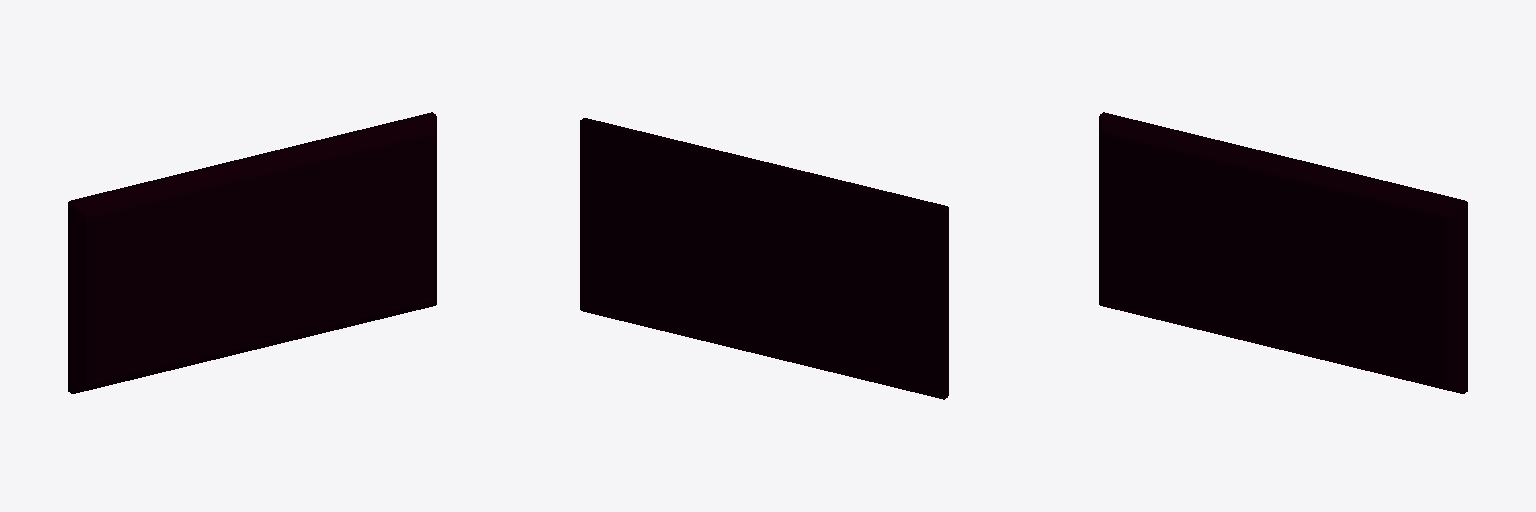
File: purp.obj
3 views of the same model, side by side, from view 1: azimuth 30°, elevation 25°; view 2: azimuth 150°, elevation 25°; view 3: azimuth 330°, elevation 25° (orthographic).
Visible parts, largest first — view 1: Body1; view 2: Body1; view 3: Body1.
Part boxes in pixels (bbox=[...]): Body1: bbox=[68, 112, 436, 393]; Body1: bbox=[580, 118, 948, 399]; Body1: bbox=[1099, 112, 1467, 393].
Size of the model in its own units: 1.22 by 0.6096 by 0.0591.